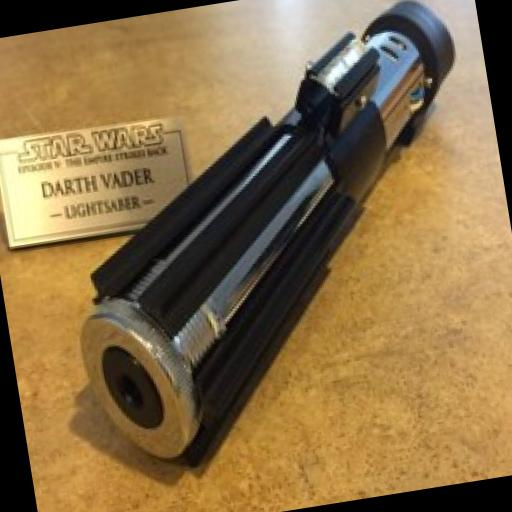lightsaber: (25, 0, 512, 486)
